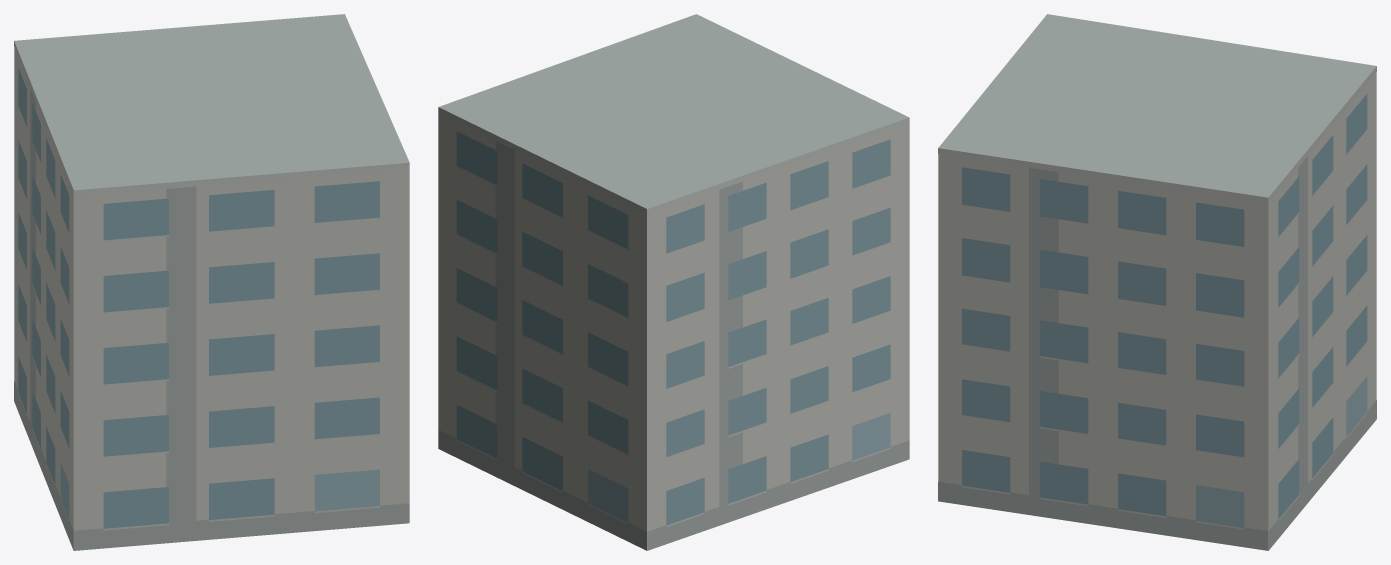
The model's file is survey-upis-32894368.glb.
The picture shows the model from 3 angles, left to right: view 1: azimuth 30°, elevation 25°; view 2: azimuth 150°, elevation 25°; view 3: azimuth 270°, elevation 25°; orthographic projection. The views are drawn at different scales.
Parts seen in each view (by area): view 1: survey-upis-32894368.tmp; view 2: survey-upis-32894368.tmp; view 3: survey-upis-32894368.tmp.
Part boxes in pixels (bbox=[...]): survey-upis-32894368.tmp: bbox=[14, 14, 409, 550]; survey-upis-32894368.tmp: bbox=[438, 14, 909, 550]; survey-upis-32894368.tmp: bbox=[938, 14, 1376, 550].
Size of the model in its own units: 15.84 by 14.2 by 15.99.
